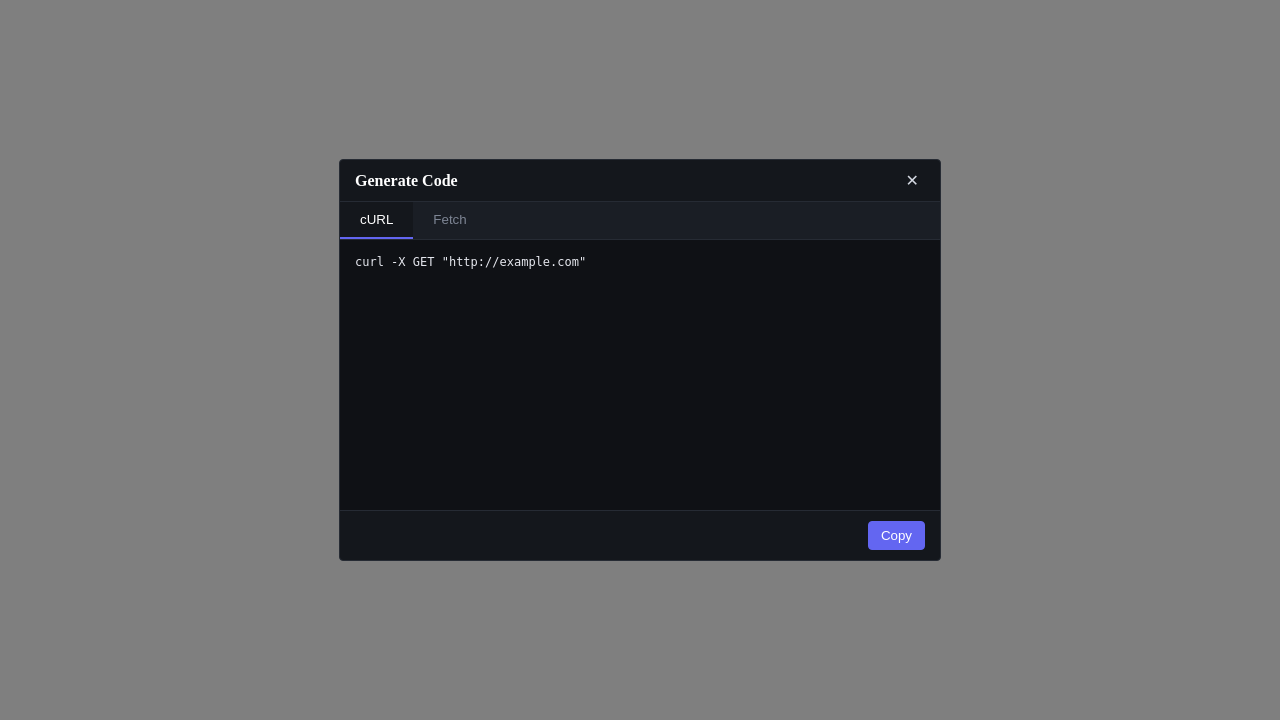
Test: CodeSnippetModal › should switch to Fetch
What coordinates should you click on to do the following:
click the button "Fetch"
I would click on:
 (450, 220)
Its box is [413, 202, 487, 239].
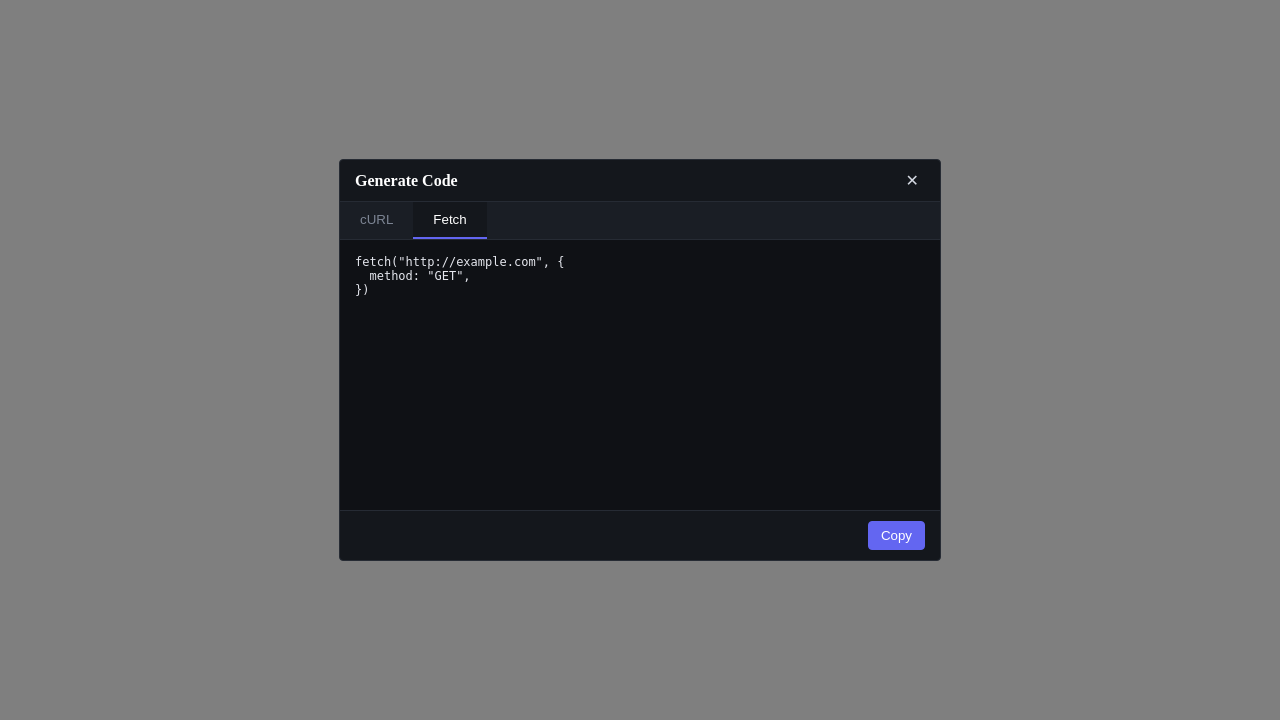
Result: the text box showing "fetch(\"http://example.com\"" is shown at [340, 240, 940, 510]
